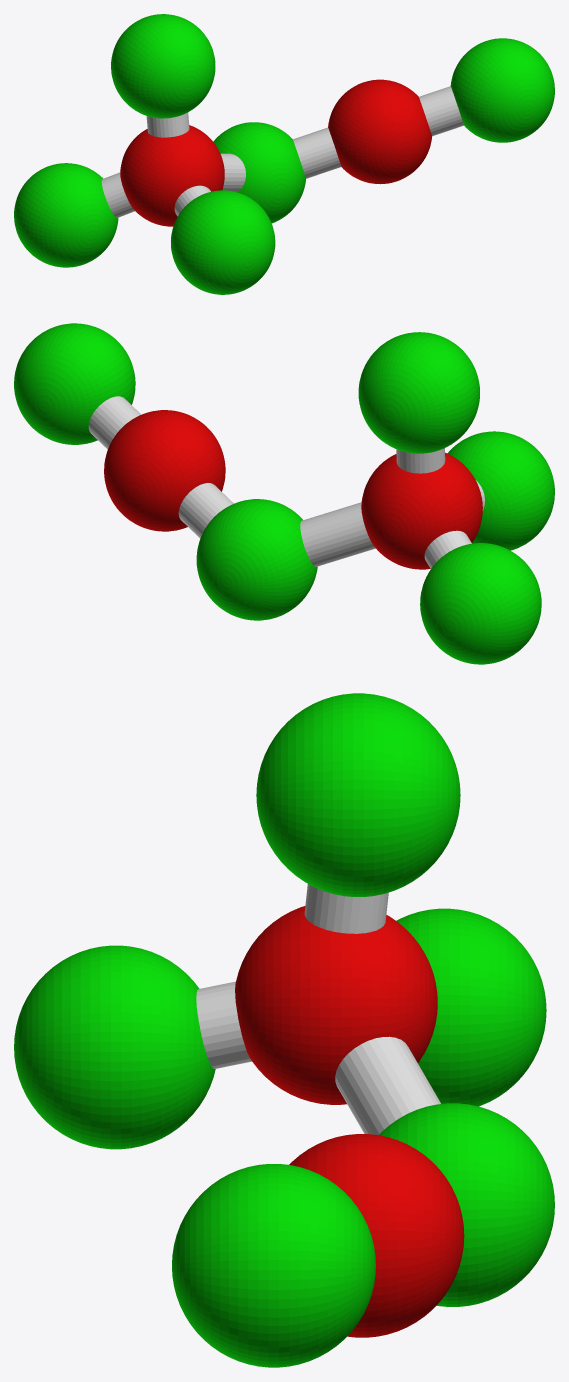
File: molecule.glb
3 renders of one model, top to bottom at view 1: azimuth 30°, elevation 25°; view 2: azimuth 150°, elevation 25°; view 3: azimuth 270°, elevation 25°, orthographic. The views are drawn at different scales.
Parts seen in each view (by area): view 1: world; view 2: world; view 3: world.
Part boxes in pixels (x1,y1,x2,y2): world: (14, 14, 554, 294); world: (14, 323, 554, 664); world: (14, 693, 554, 1367).
Bounding box in the file's own units: 5.34 × 2.62 × 2.65.
